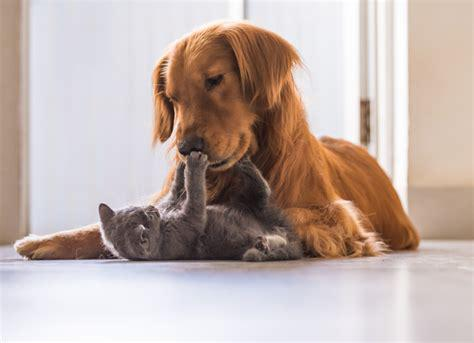cat: (98, 151, 304, 259)
dog: (14, 20, 417, 261)
